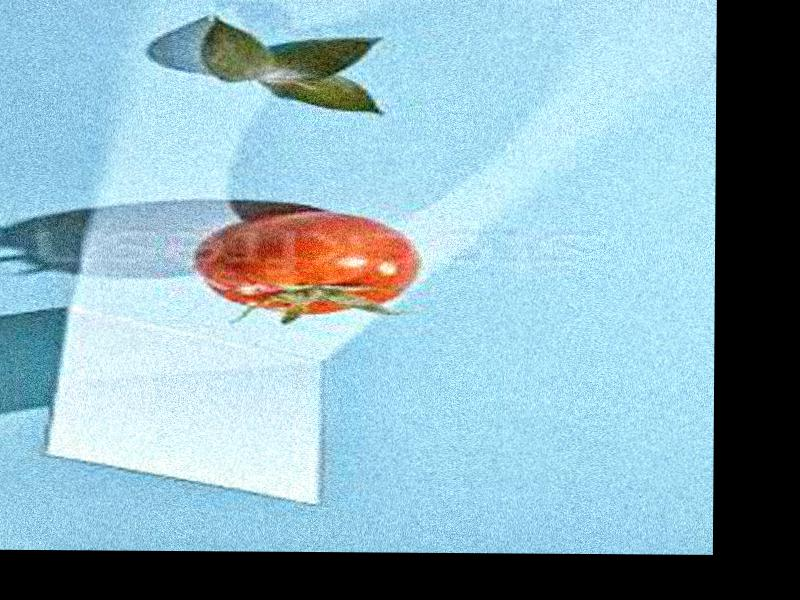Tomato: (193, 210, 426, 316)
